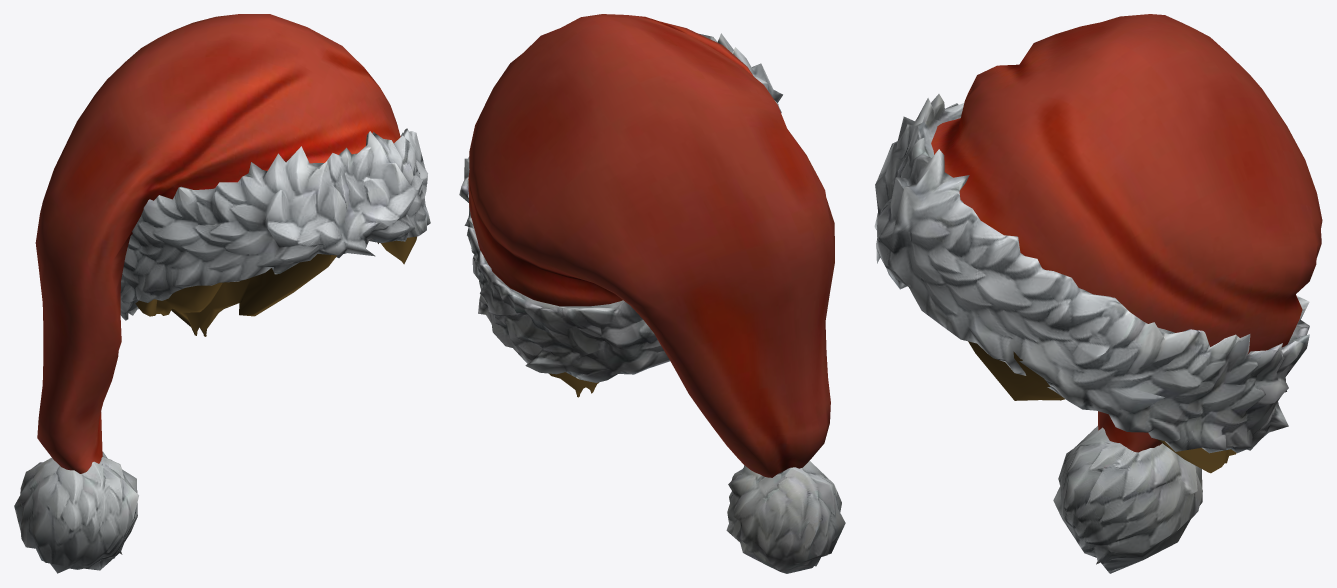
3 views of the same model, side by side, from view 1: azimuth 30°, elevation 25°; view 2: azimuth 150°, elevation 25°; view 3: azimuth 270°, elevation 25° (orthographic). The views are drawn at different scales.
Visible parts, largest first — view 1: Wolf3D_Headwear.009; view 2: Wolf3D_Headwear.009; view 3: Wolf3D_Headwear.009.
Part boxes in pixels (x1,y1,x2,y2): Wolf3D_Headwear.009: [14, 14, 430, 573]; Wolf3D_Headwear.009: [459, 14, 845, 573]; Wolf3D_Headwear.009: [874, 14, 1322, 573].
Size of the model in its own units: 0.2596 by 0.3376 by 0.2179.
1 material, 1 textured.
